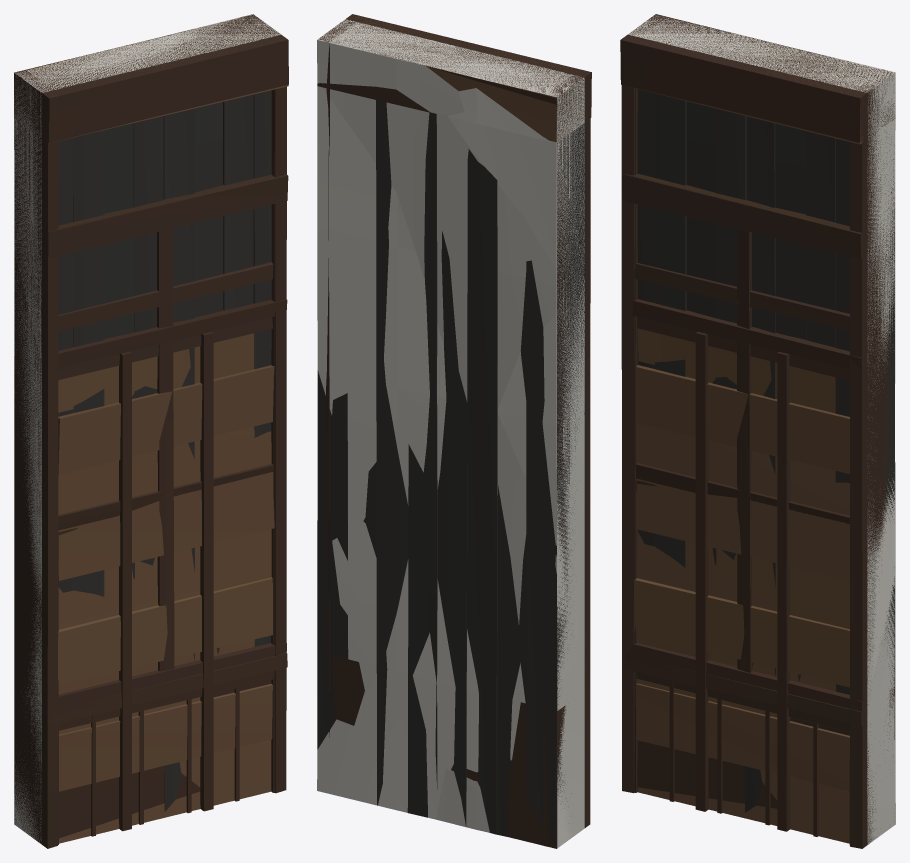
File: wall.timber.glb
3 renders of one model, left to right at view 1: azimuth 30°, elevation 25°; view 2: azimuth 150°, elevation 25°; view 3: azimuth 330°, elevation 25°, orthographic.
Visible parts, largest first — view 1: wall.timber.v2.mesh, wall.timber.v1.mesh, wall.timber.v0.mesh; view 2: wall.timber.v1.mesh, wall.timber.v0.mesh, wall.timber.v2.mesh; view 3: wall.timber.v2.mesh, wall.timber.v1.mesh, wall.timber.v0.mesh.
Boxes of the visible parts, x1,y1,x2,y2 form: wall.timber.v2.mesh: (14,15,288,843); wall.timber.v1.mesh: (14,14,288,848); wall.timber.v0.mesh: (14,14,287,846); wall.timber.v1.mesh: (317,15,590,848); wall.timber.v0.mesh: (317,14,591,848); wall.timber.v2.mesh: (317,14,591,840); wall.timber.v2.mesh: (625,15,895,846); wall.timber.v1.mesh: (621,16,895,848); wall.timber.v0.mesh: (620,14,895,845).
Size of the model in its own units: 0.9999 by 3 by 0.2589.
